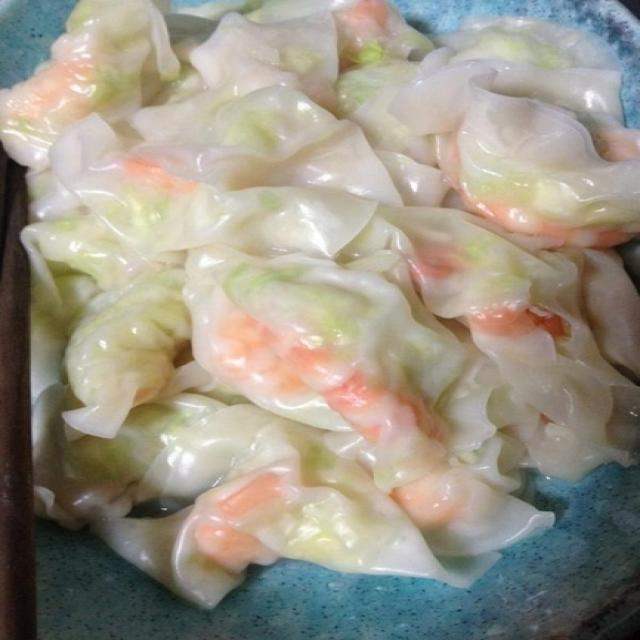带馅早点: (21, 21, 618, 591)
